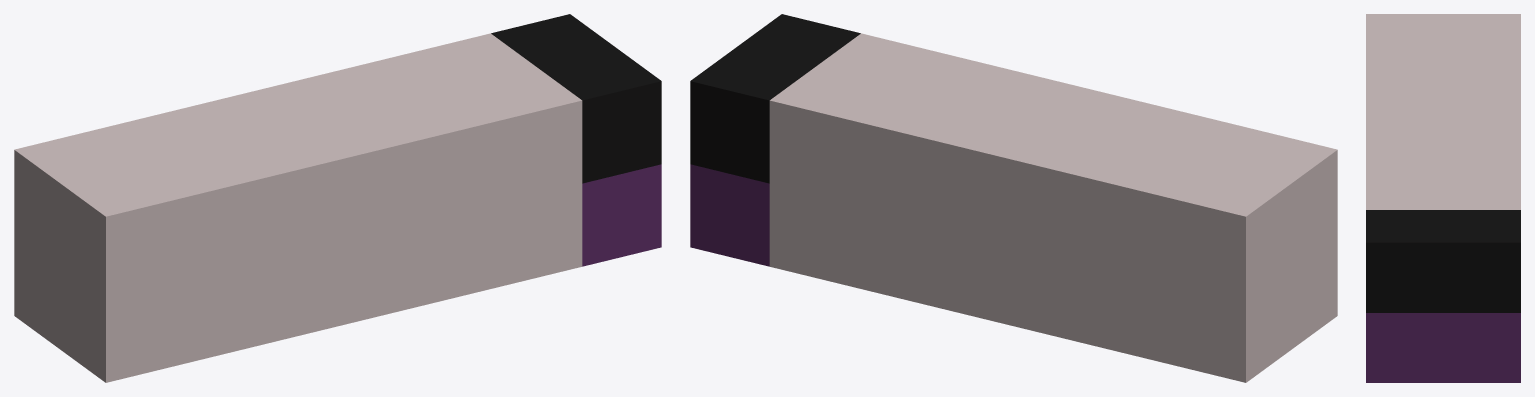
Rendered from LeleLowerArmR.fbx.
The picture shows the model from 3 angles, left to right: view 1: azimuth 30°, elevation 25°; view 2: azimuth 150°, elevation 25°; view 3: azimuth 270°, elevation 25°; orthographic projection. The views are drawn at different scales.
Parts seen in each view (by area): view 1: LeleLowerArmR; view 2: LeleLowerArmR; view 3: LeleLowerArmR.
Part boxes in pixels (x1,y1,x2,y2): LeleLowerArmR: (14, 14, 661, 382); LeleLowerArmR: (690, 14, 1337, 382); LeleLowerArmR: (1366, 14, 1520, 382).
Size of the model in its own units: 70 by 20 by 20.
